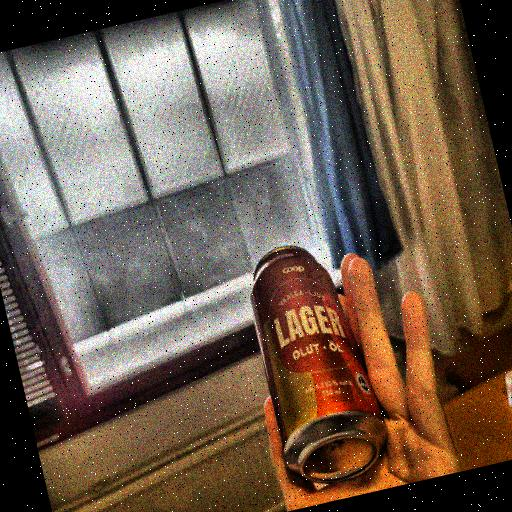coop_larger: (234, 222, 395, 492)
